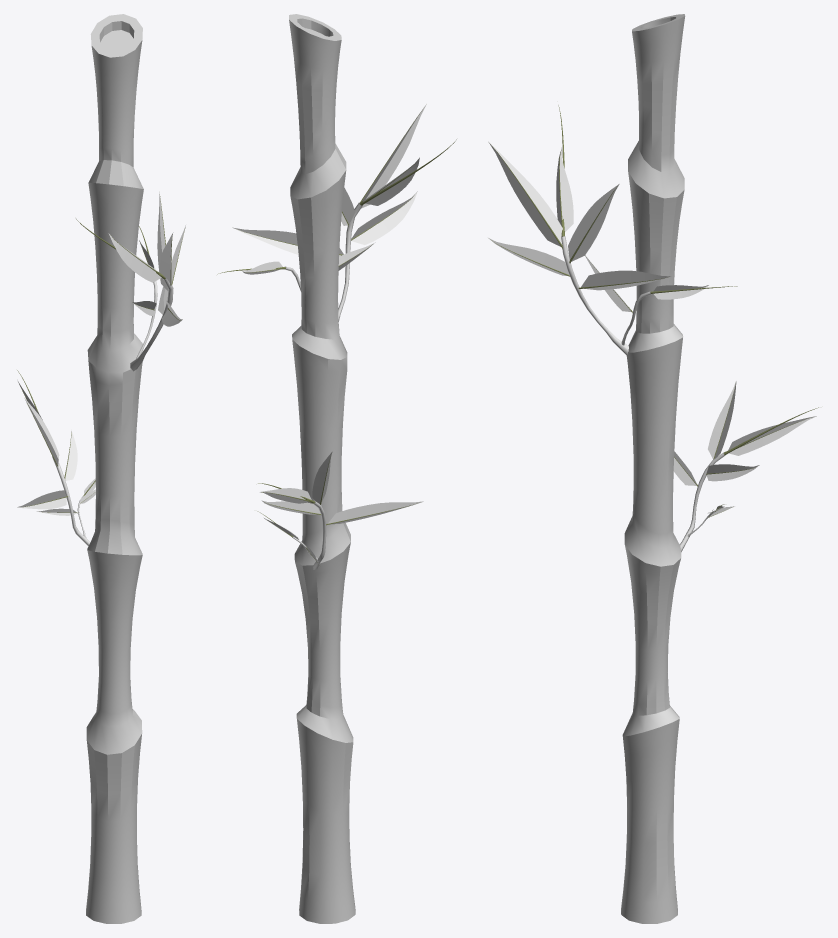
Rendered from BambusLang2.fbx.
3 views of the same model, side by side, from view 1: azimuth 30°, elevation 25°; view 2: azimuth 150°, elevation 25°; view 3: azimuth 270°, elevation 25° (orthographic). The views are drawn at different scales.
Visible parts, largest first — view 1: Cylinder.026; view 2: Cylinder.026; view 3: Cylinder.026.
Part boxes in pixels (x1=…): Cylinder.026: x1=17, y1=14, x2=185, y2=923; Cylinder.026: x1=217, y1=14, x2=456, y2=923; Cylinder.026: x1=488, y1=14, x2=818, y2=923.
Size of the model in its own units: 51.62 by 242 by 81.54.
